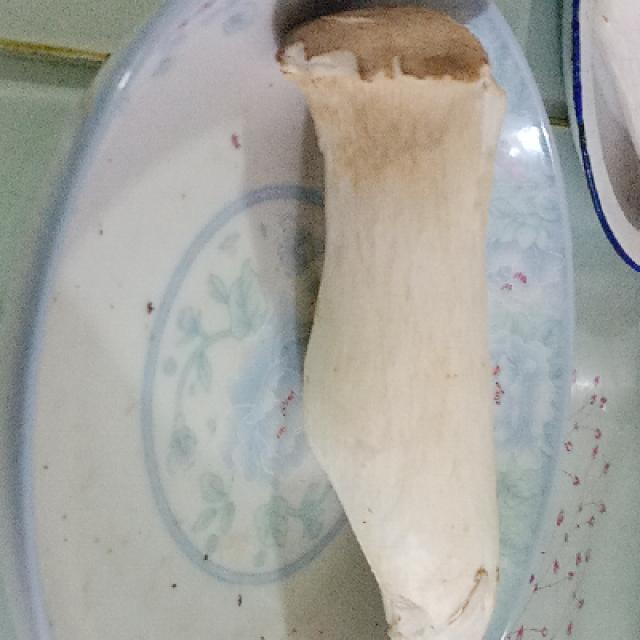Pleurotus eryngii: (278, 9, 512, 640)
